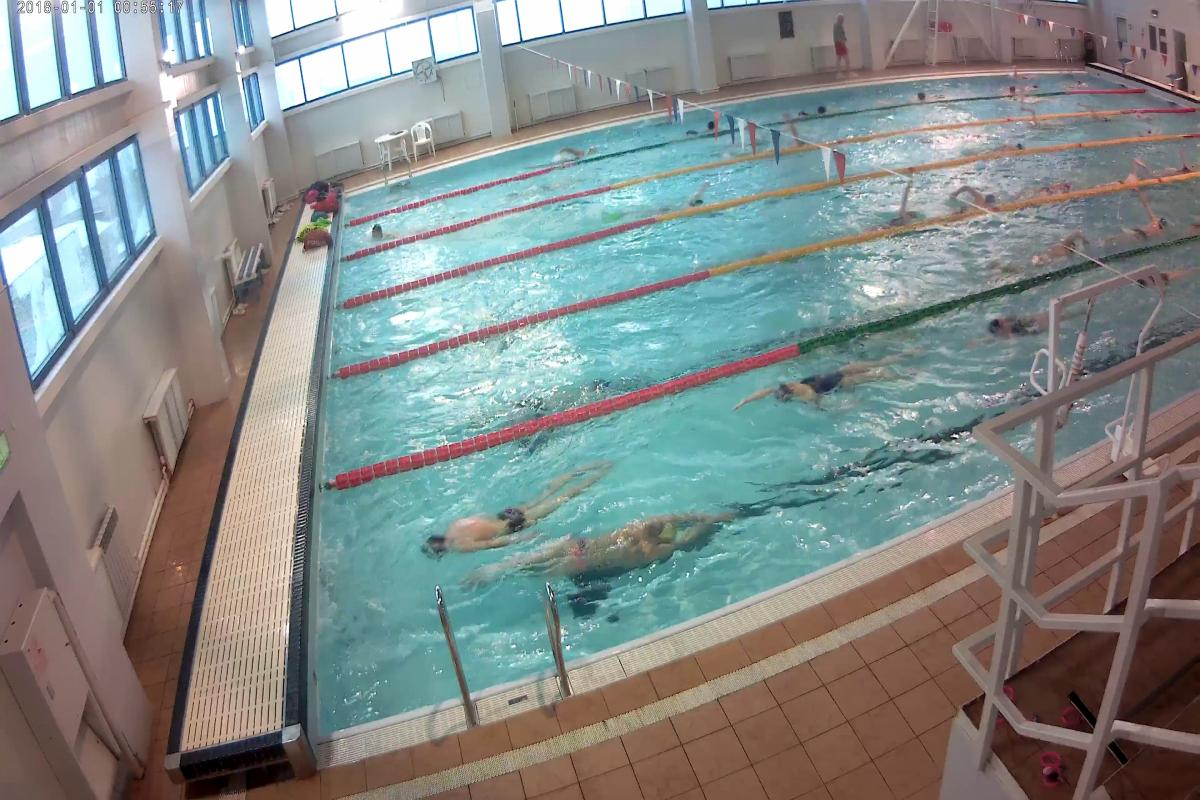swimmer: (499, 504, 719, 583), (414, 464, 592, 558), (727, 350, 911, 413), (976, 306, 1048, 348), (1025, 228, 1090, 268), (1117, 206, 1167, 246), (878, 188, 922, 226), (954, 183, 1001, 208), (367, 219, 395, 244)
